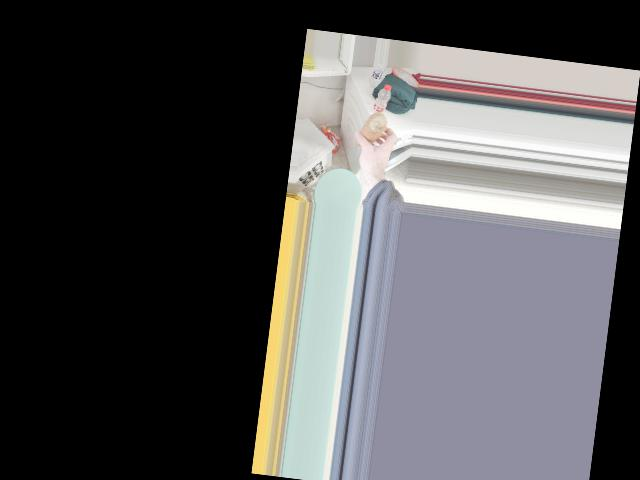sweet_potato: (352, 112, 389, 154)
